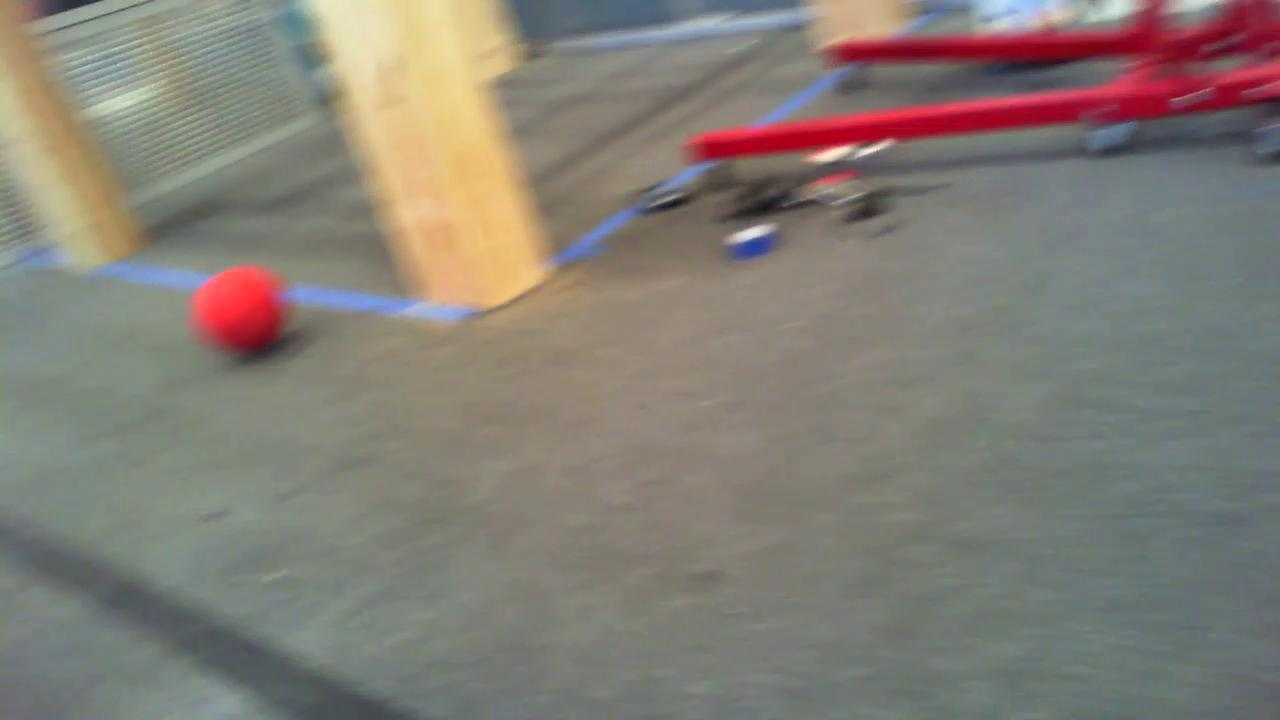Red_Ball: (179, 267, 298, 353)
